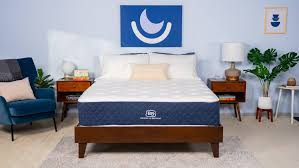bed-matress: (77, 70, 221, 128)
